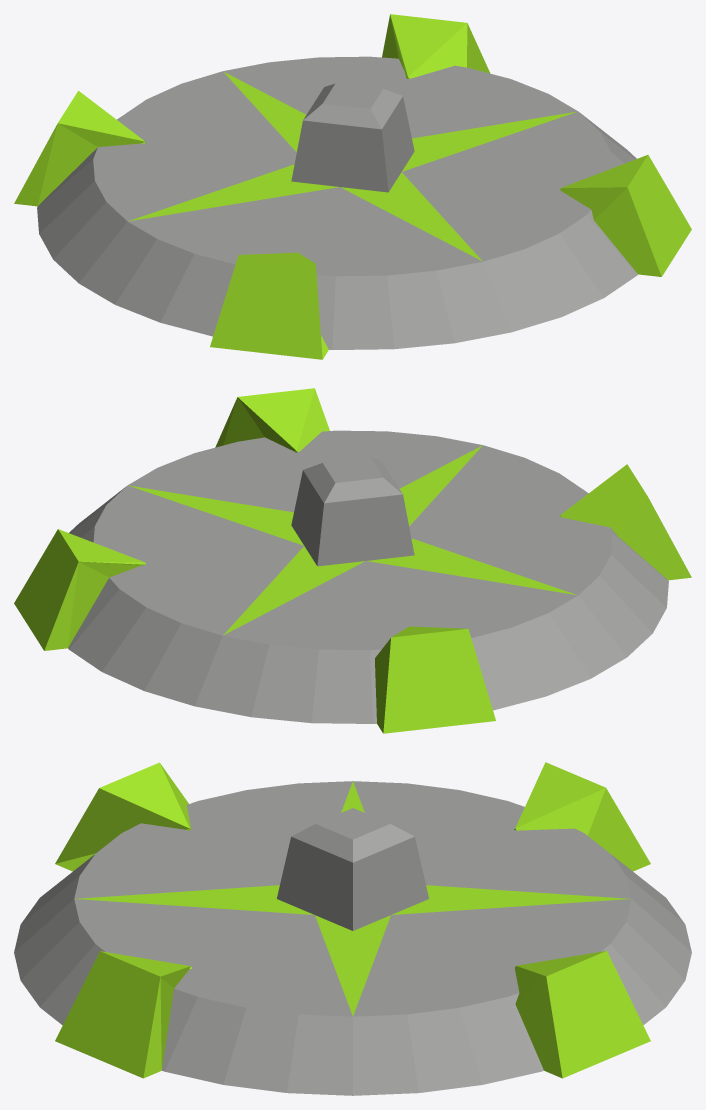
Rendered from Beyblade_Base.fbx.
3 renders of one model, top to bottom at view 1: azimuth 30°, elevation 25°; view 2: azimuth 150°, elevation 25°; view 3: azimuth 270°, elevation 25°, orthographic. The views are drawn at different scales.
Parts seen in each view (by area): view 1: Circle; view 2: Circle; view 3: Circle.
Part boxes in pixels (x1,y1,x2,y2): Circle: (14, 14, 691, 359); Circle: (14, 388, 691, 733); Circle: (14, 762, 691, 1095).
Size of the model in its own units: 200 by 41.92 by 200.
1 material, 1 textured.
